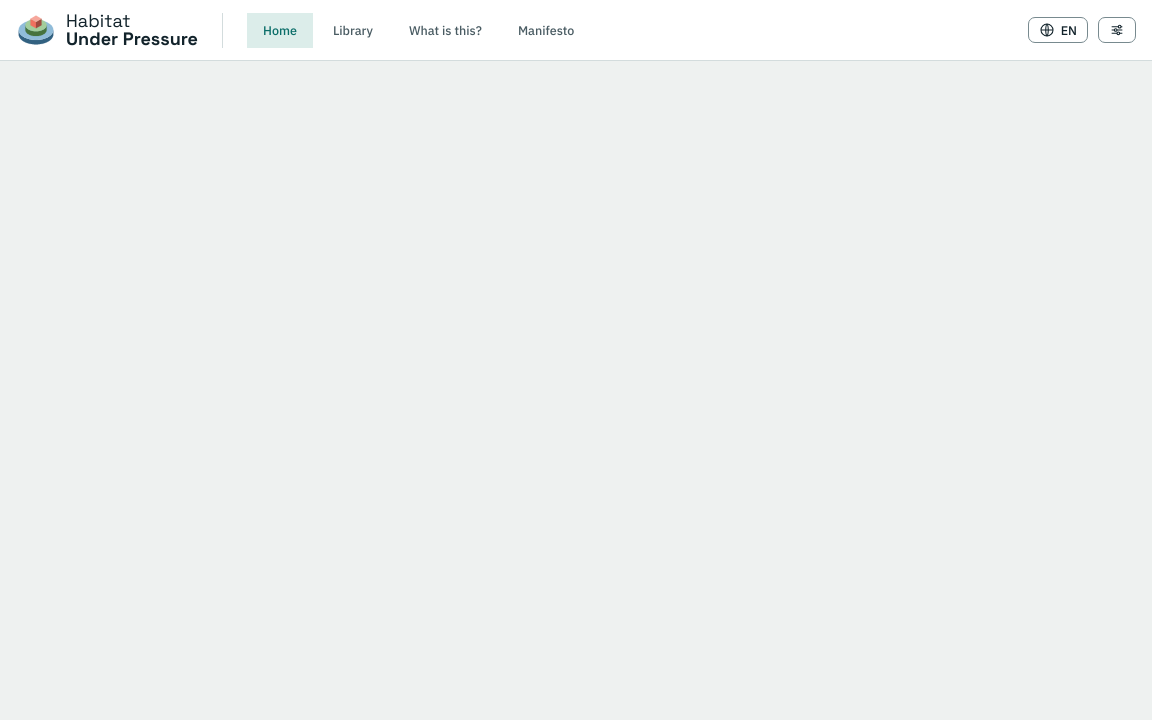
Test: the drawer has a title, an icon close button and three described settings
Step 1. Click the button named "Options" → (1117,30), box [1098,17,1136,43]
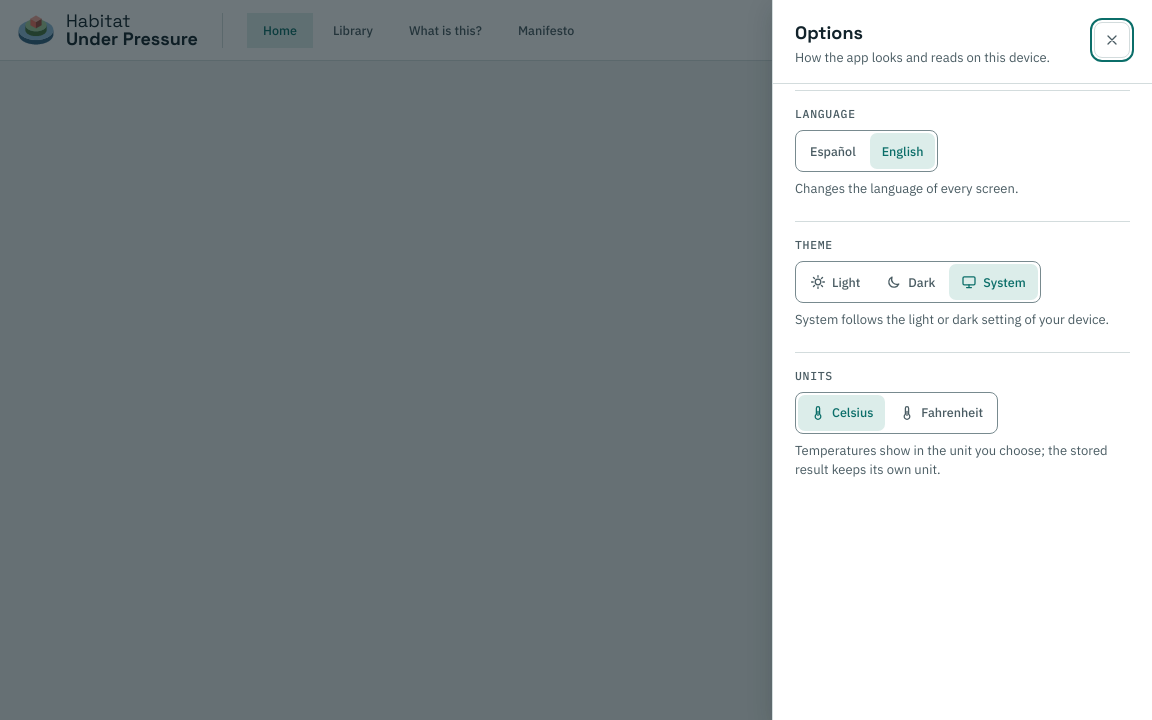
Check: the element named "Language" is shown, box [795,130,938,172]
Check: the element named "Theme" is shown, box [795,261,1041,303]
Check: the element named "Units" is shown, box [795,392,998,434]
